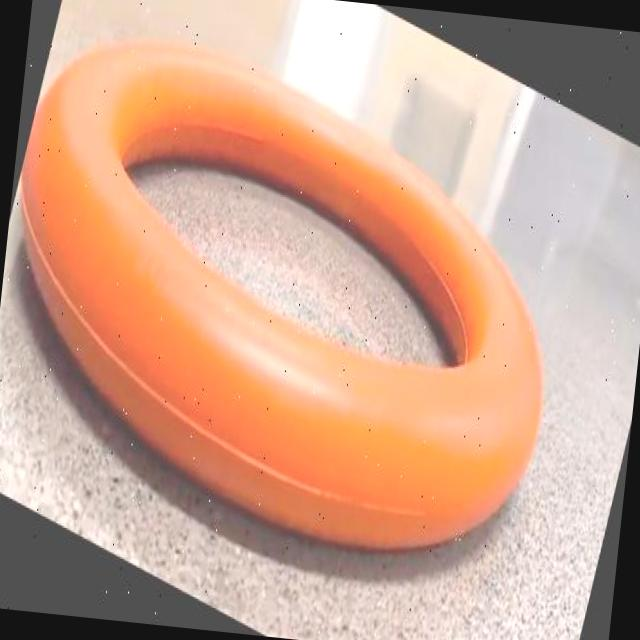note: (20, 40, 541, 549)
